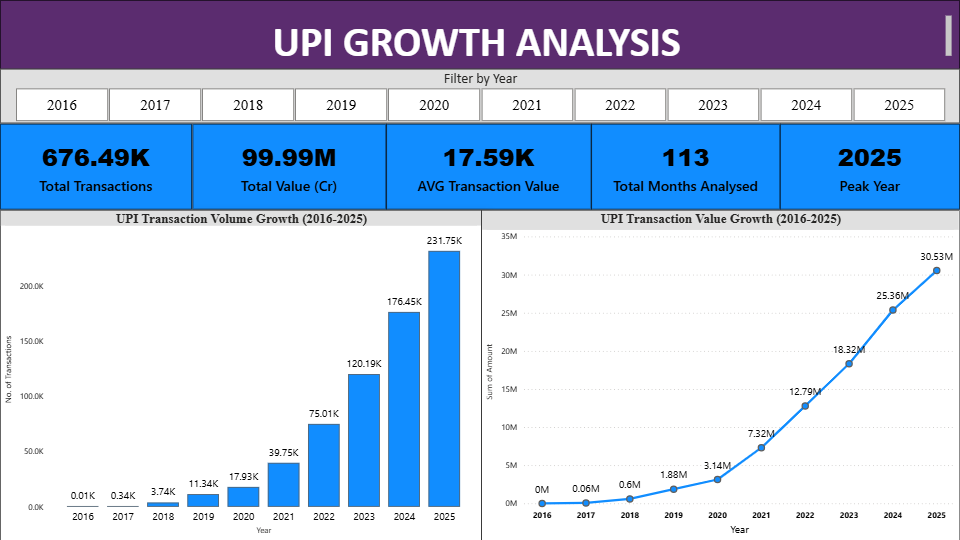

The page's visual inventory and layout, read from the dashboard file:
{"tool":"powerbi","page":{"name":"Overview","canvas":[1280,720],"ordinal":0},"visuals":[{"type":"textbox","box":[0,0,1280.3,93],"z":0},{"type":"card","fields":{"Values":["upi_yearly.Total Value (Cr)"]},"box":[256,164.9,258.5,114.5],"z":1000},{"type":"card","fields":{"Values":["upi_yearly.AVG Transaction Value"]},"box":[514.5,164.9,273.2,114.5],"z":2000},{"type":"columnChart","title":"UPI Transaction Volume Growth (2016-2025)","fields":{"Category":["upi_yearly.Year"],"Y":["Sum(upi_yearly.Total_Volume_Mn)"]},"box":[0,279.4,642.5,440.6],"z":3000},{"type":"lineChart","title":"UPI Transaction Value Growth (2016-2025)","fields":{"Category":["upi_yearly.Year"],"Y":["Sum(upi_yearly.Total_Value_Cr)"]},"box":[642.5,279.4,637.5,440.6],"z":4000},{"type":"card","fields":{"Values":["upi_yearly.Total Transactions"]},"box":[0,164.9,256,114.5],"z":5000},{"type":"card","fields":{"Values":["upi_monthly.Total Months Analysed"]},"box":[787.7,164.9,252.3,114.5],"z":6000},{"type":"card","fields":{"Values":["upi_monthly.Peak Year"]},"box":[1040,164.9,240,114.5],"z":7000},{"type":"slicer","title":"Filter by Year","fields":{"Values":["upi_yearly.Year"]},"box":[0,92.3,1280,72.6],"z":8000}]}

Visuals, with their boxes in screenshot pixels (x1, y1, x2, y2), scaled from the page's 1280x720 canvas onto the 960x540 screenshot:
textbox: [left=0, top=0, right=959, bottom=70]
card - upi_yearly.Total Value (Cr): [left=192, top=124, right=386, bottom=210]
card - upi_yearly.AVG Transaction Value: [left=386, top=124, right=591, bottom=210]
"UPI Transaction Volume Growth (2016-2025)" columnChart: [left=0, top=210, right=482, bottom=539]
"UPI Transaction Value Growth (2016-2025)" lineChart: [left=482, top=210, right=959, bottom=539]
card - upi_yearly.Total Transactions: [left=0, top=124, right=192, bottom=210]
card - upi_monthly.Total Months Analysed: [left=591, top=124, right=780, bottom=210]
card - upi_monthly.Peak Year: [left=780, top=124, right=959, bottom=210]
"Filter by Year" slicer: [left=0, top=69, right=959, bottom=124]
